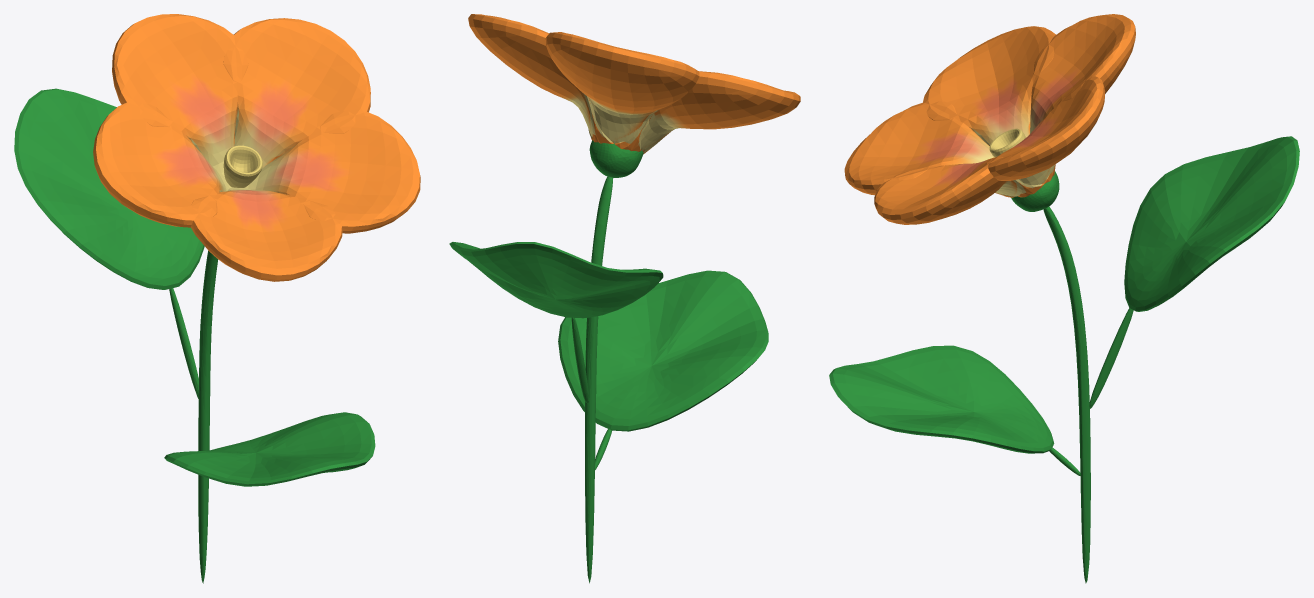
File: Affection_Nasturtium.glb
3 renders of one model, left to right at view 1: azimuth 30°, elevation 25°; view 2: azimuth 150°, elevation 25°; view 3: azimuth 270°, elevation 25°, orthographic. The views are drawn at different scales.
Parts seen in each view (by area): view 1: Cylinder.004; view 2: Cylinder.004; view 3: Cylinder.004.
Part boxes in pixels (bbox=[...]): Cylinder.004: bbox=[14, 14, 420, 583]; Cylinder.004: bbox=[449, 14, 800, 583]; Cylinder.004: bbox=[829, 14, 1299, 583].
Bounding box in the file's own units: 5.11 × 9.49 × 7.43.
3 materials, 1 textured.
